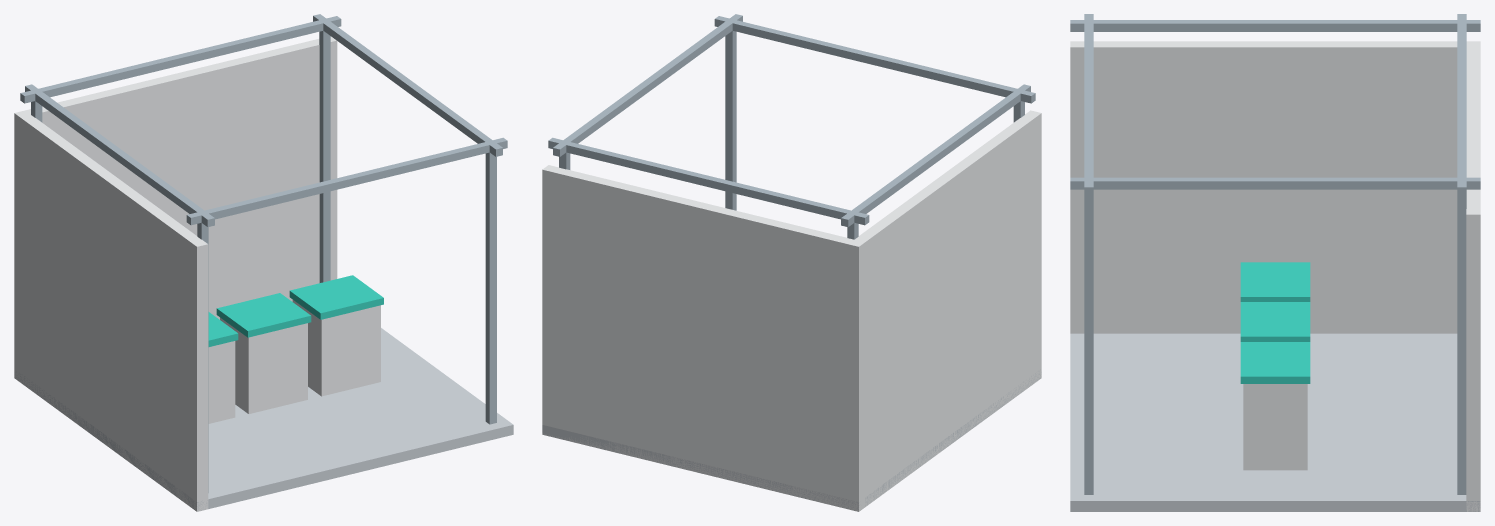
3 views of the same model, side by side, from view 1: azimuth 30°, elevation 25°; view 2: azimuth 150°, elevation 25°; view 3: azimuth 270°, elevation 25° (orthographic). The views are drawn at different scales.
Visible parts, largest first — view 1: Exhibition Booth Concept; view 2: Exhibition Booth Concept; view 3: Exhibition Booth Concept.
Part boxes in pixels (bbox=[...]): Exhibition Booth Concept: bbox=[14, 14, 513, 511]; Exhibition Booth Concept: bbox=[542, 14, 1041, 511]; Exhibition Booth Concept: bbox=[1070, 14, 1480, 511].
Bounding box in the file's own units: 4 × 3.49 × 4.
